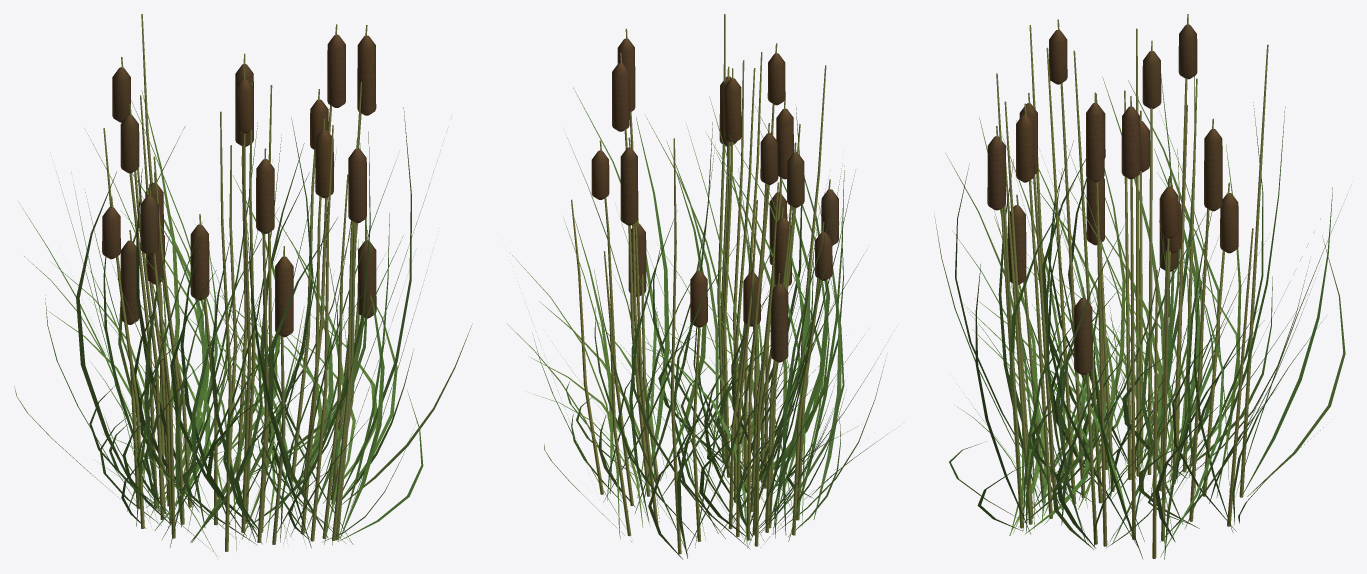
Rendered from PZ_Cattails_Clump_B.glb.
3 views of the same model, side by side, from view 1: azimuth 30°, elevation 25°; view 2: azimuth 150°, elevation 25°; view 3: azimuth 270°, elevation 25° (orthographic). The views are drawn at different scales.
Visible parts, largest first — view 1: Cattails_LeafBlades_TightSilhouette, Cattails_IndependentStalks_Batched, Cattails_Brown_Seedheads; view 2: Cattails_LeafBlades_TightSilhouette, Cattails_IndependentStalks_Batched, Cattails_Brown_Seedheads; view 3: Cattails_LeafBlades_TightSilhouette, Cattails_IndependentStalks_Batched, Cattails_Brown_Seedheads.
Part boxes in pixels (<box>): Cattails_LeafBlades_TightSilhouette: <box>14,90,472,558</box>; Cattails_IndependentStalks_Batched: <box>103,14,367,551</box>; Cattails_Brown_Seedheads: <box>102,34,376,337</box>; Cattails_LeafBlades_TightSilhouette: <box>507,87,888,559</box>; Cattails_IndependentStalks_Batched: <box>571,14,830,554</box>; Cattails_Brown_Seedheads: <box>591,38,838,362</box>; Cattails_LeafBlades_TightSilhouette: <box>934,76,1345,559</box>; Cattails_IndependentStalks_Batched: <box>996,14,1268,558</box>; Cattails_Brown_Seedheads: <box>987,24,1238,375</box>.
Size of the model in its own units: 2.1 by 2.32 by 1.86.
Materials: 3 (3 with a texture image).
